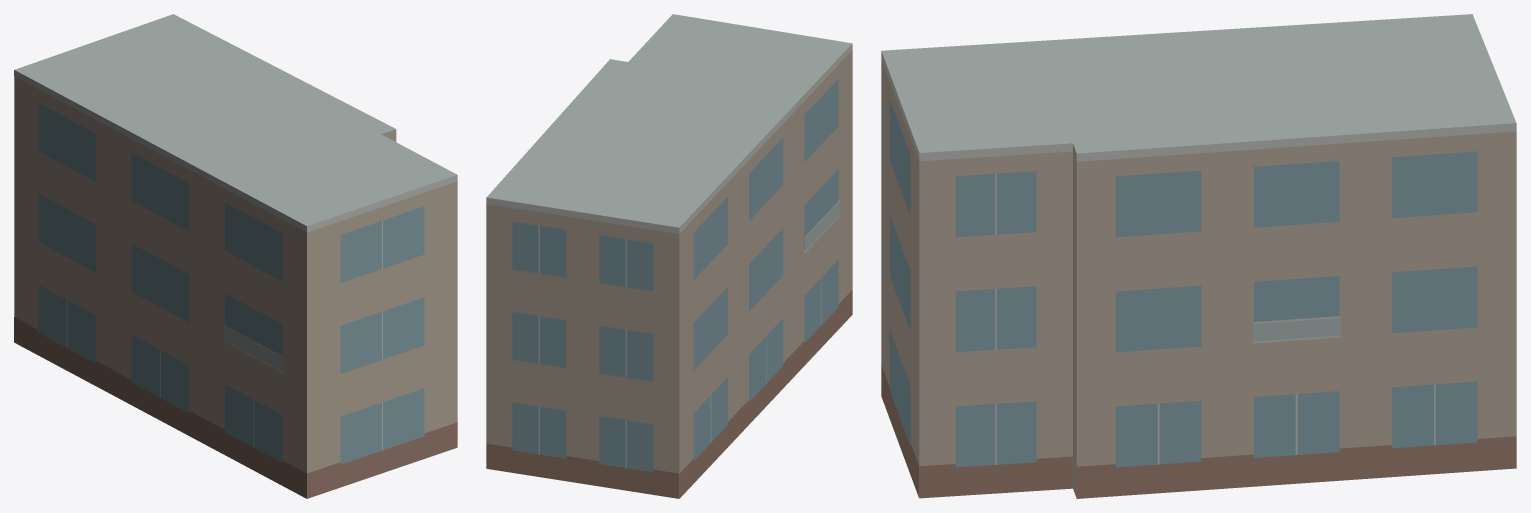
File: survey-upis-33027609.glb
3 renders of one model, left to right at view 1: azimuth 30°, elevation 25°; view 2: azimuth 150°, elevation 25°; view 3: azimuth 270°, elevation 25°, orthographic. The views are drawn at different scales.
Visible parts, largest first — view 1: survey-upis-33027609.tmp; view 2: survey-upis-33027609.tmp; view 3: survey-upis-33027609.tmp.
Boxes of the visible parts, bbox=[...] form: survey-upis-33027609.tmp: bbox=[14, 14, 457, 498]; survey-upis-33027609.tmp: bbox=[486, 14, 852, 498]; survey-upis-33027609.tmp: bbox=[881, 14, 1516, 498].
Size of the model in its own units: 8.94 by 10.3 by 17.19.
